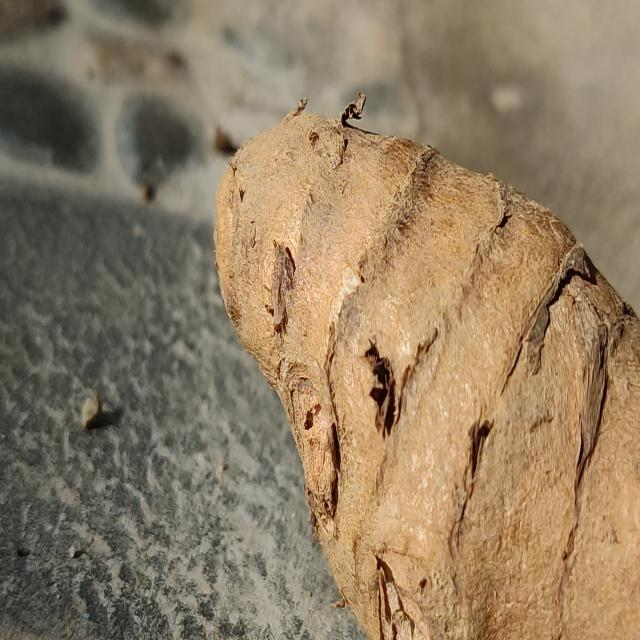ginger: (218, 101, 640, 638)
